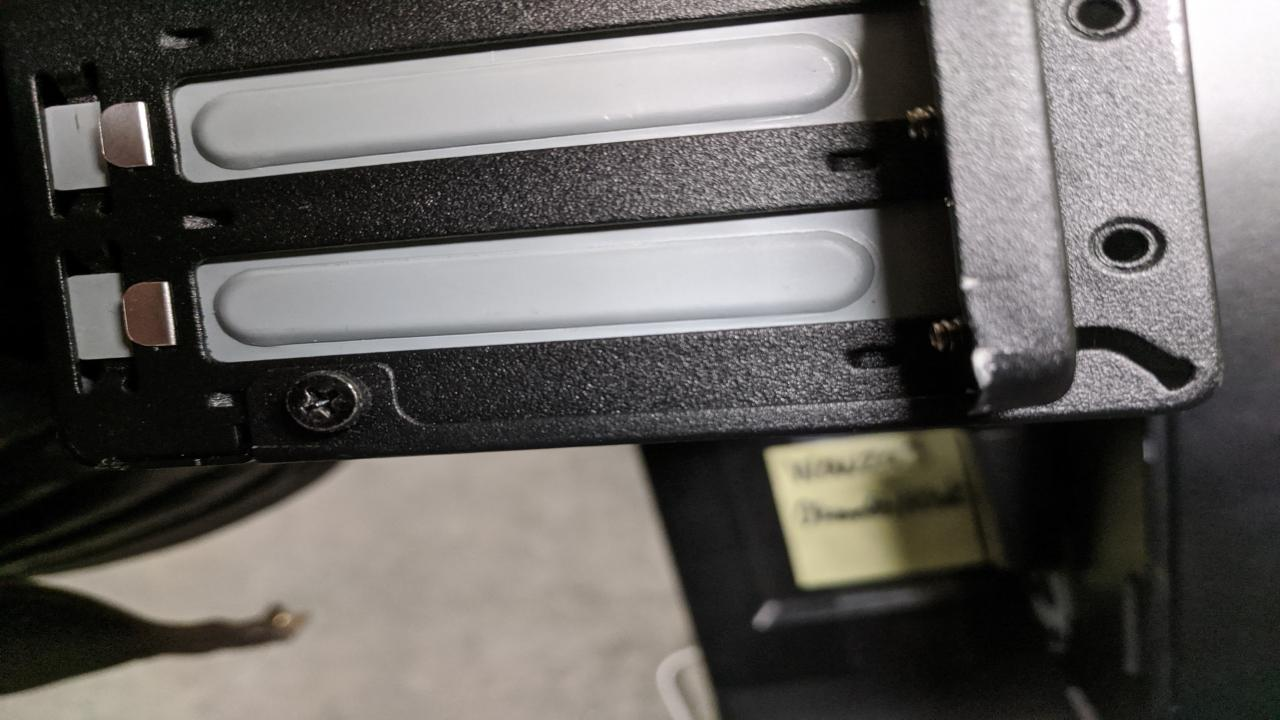CRS: (282, 371, 370, 431)
